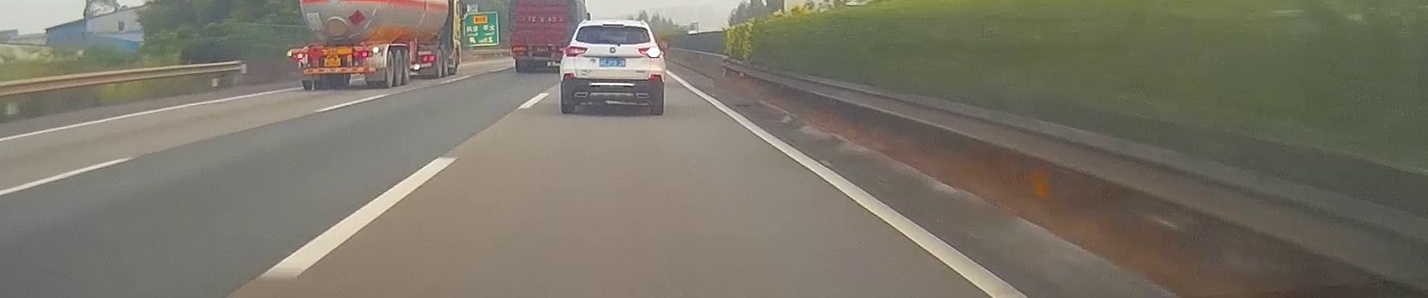L_light: (565, 45, 589, 57), (294, 53, 307, 58)
R_light: (638, 46, 662, 58), (357, 51, 371, 57)
T_light: (602, 23, 624, 28), (327, 47, 337, 52)
day-brake: (287, 44, 390, 90)
day-right: (560, 19, 666, 114)
